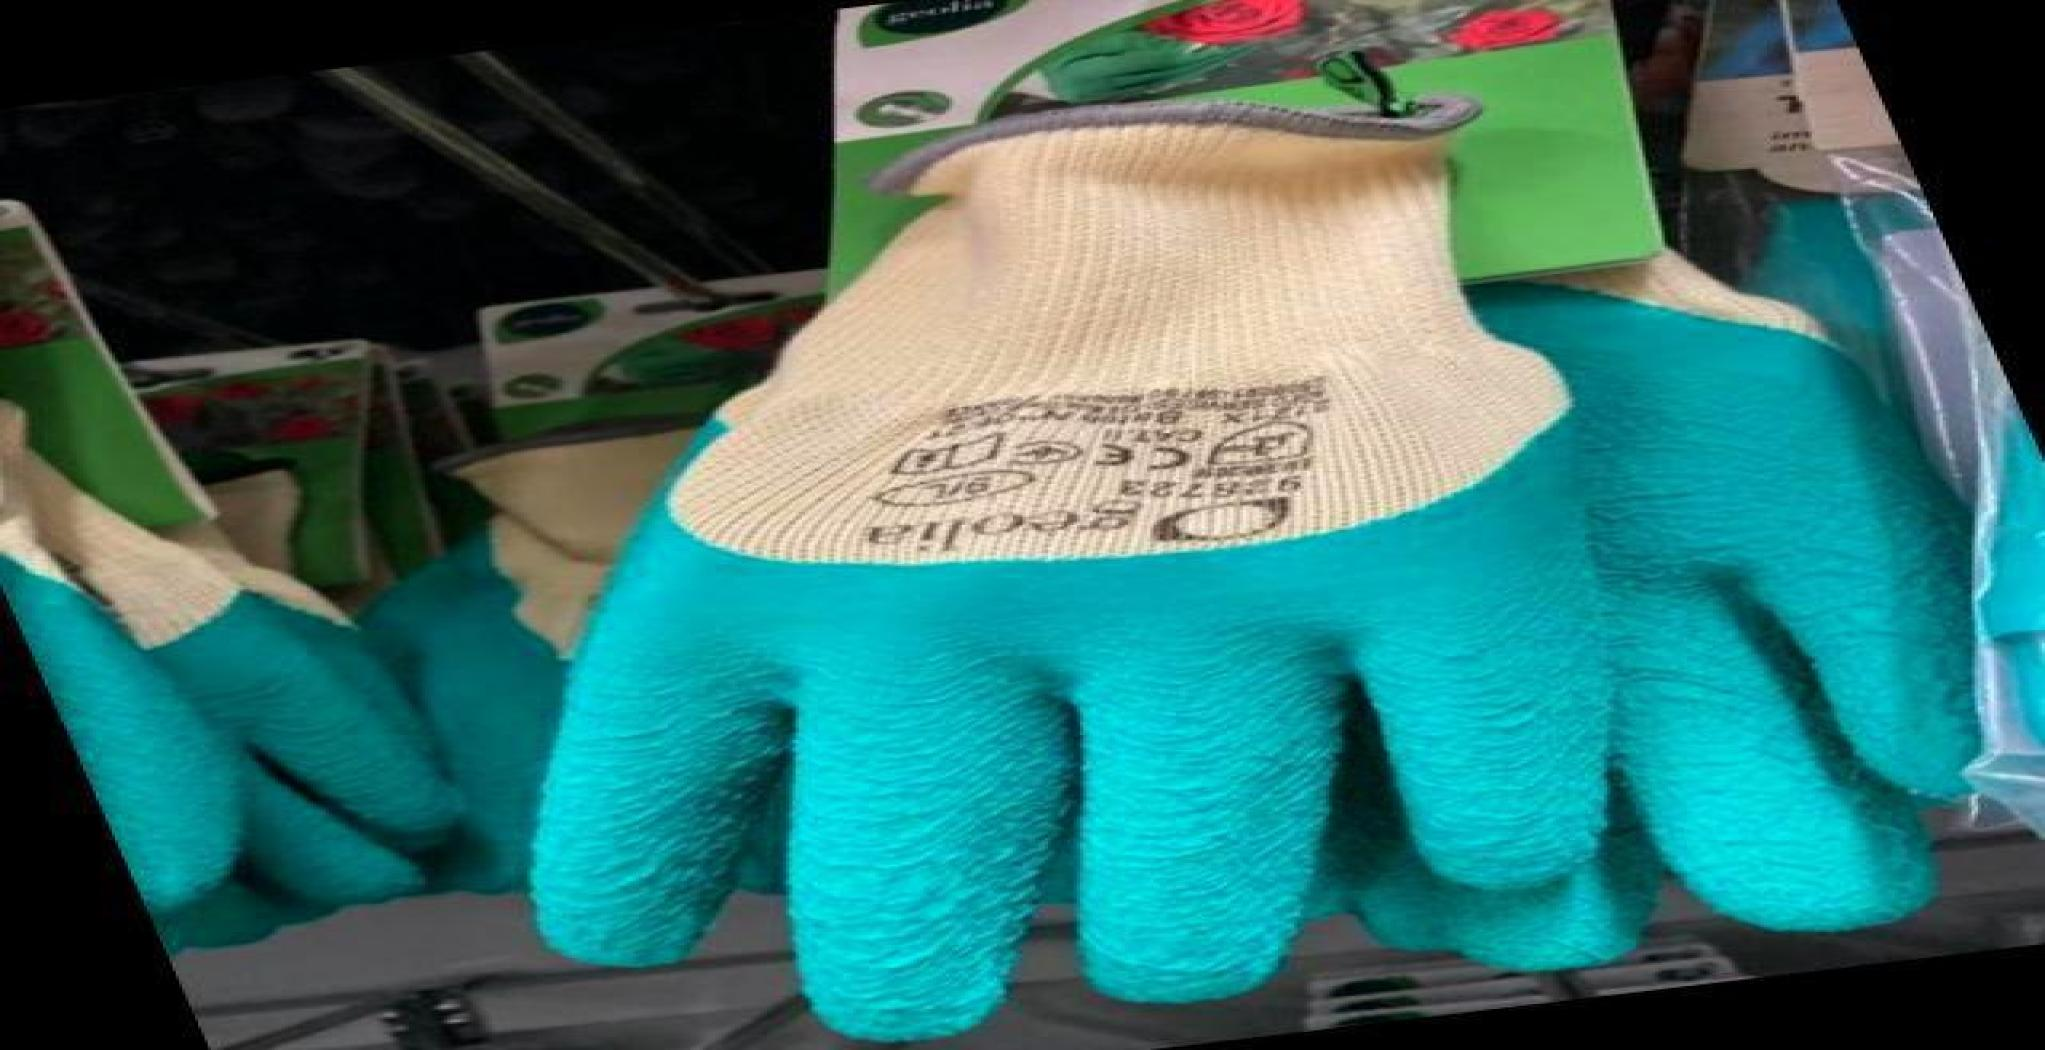gloved: (774, 166, 1666, 980)
